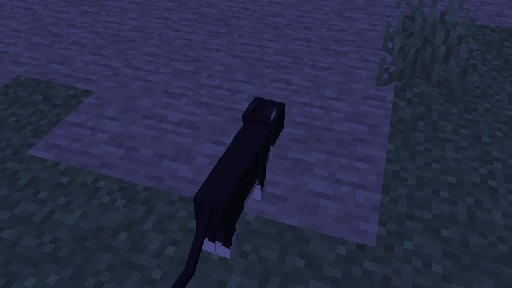cat: (147, 95, 285, 288)
